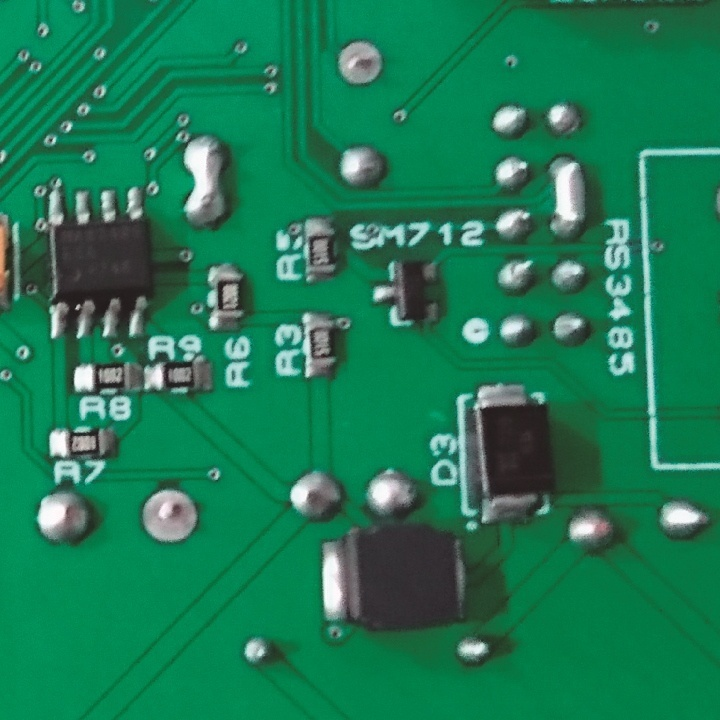F: (139, 483, 195, 546), (333, 37, 387, 89)
P: (179, 132, 231, 229), (548, 149, 588, 243)
